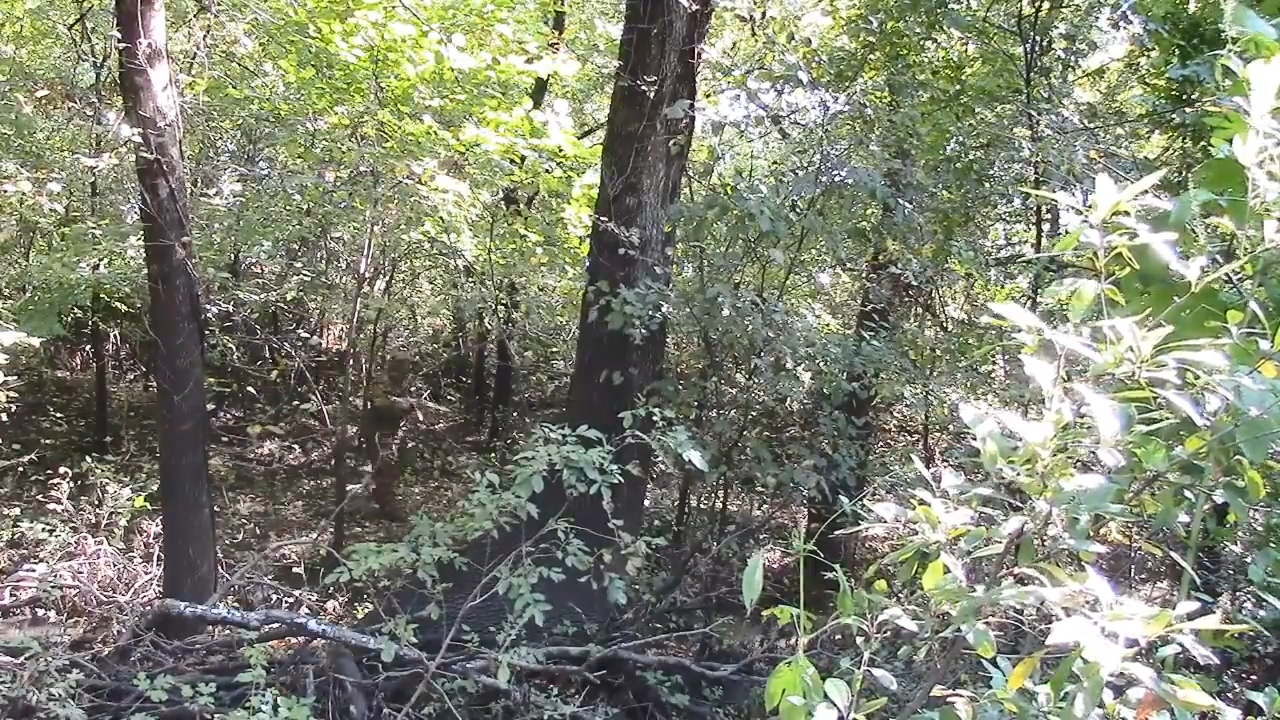person: (361, 342, 438, 528)
